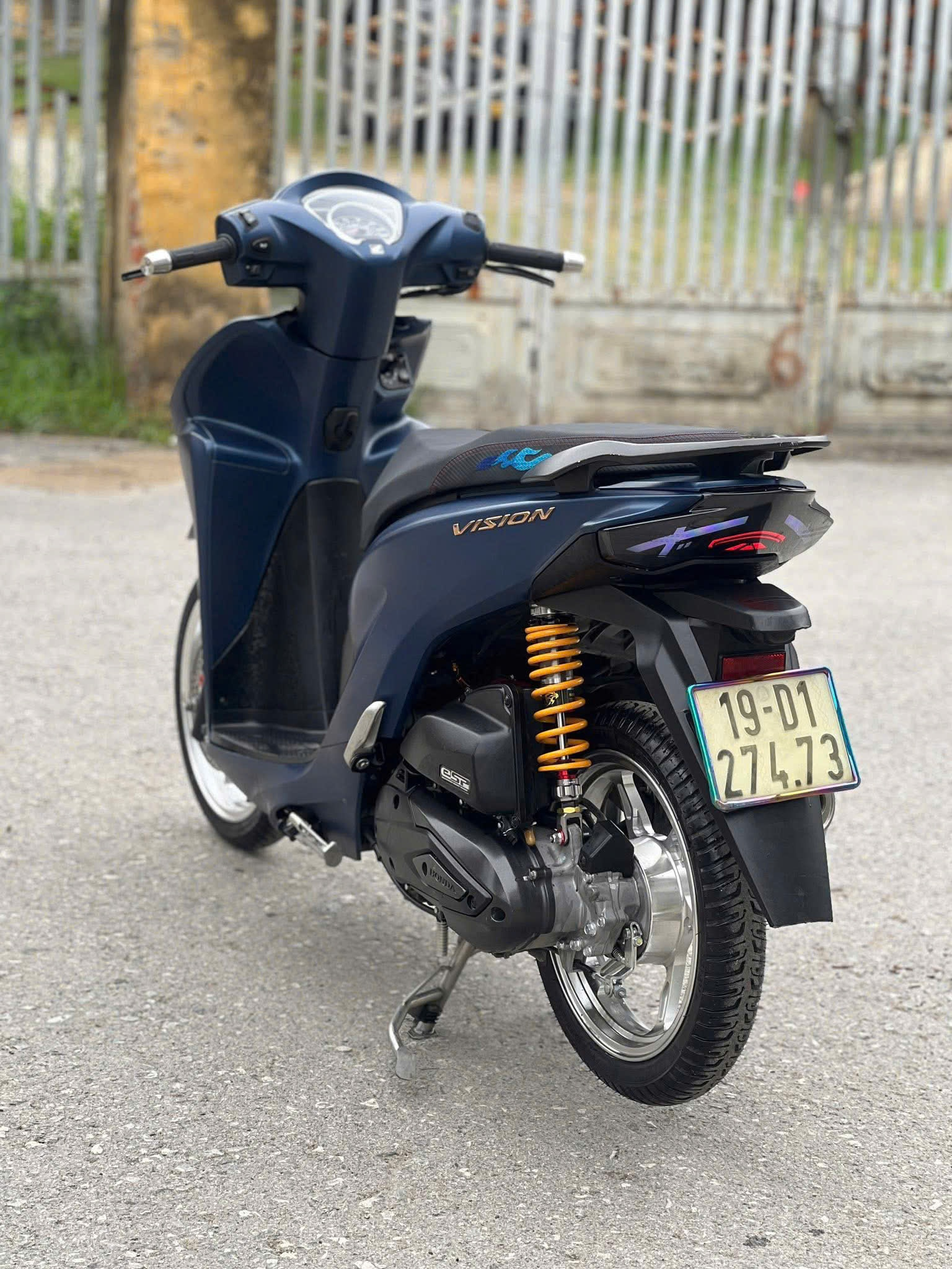Bien-so: (691, 676, 879, 837)
